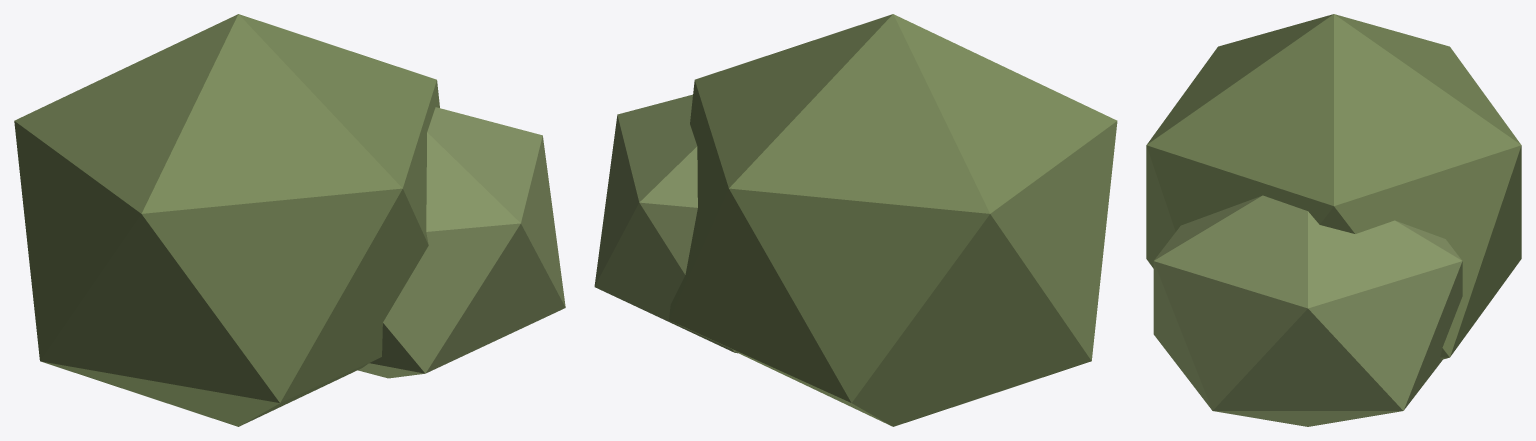
File: bush.glb
The picture shows the model from 3 angles, left to right: view 1: azimuth 30°, elevation 25°; view 2: azimuth 150°, elevation 25°; view 3: azimuth 270°, elevation 25°; orthographic projection. The views are drawn at different scales.
Visible parts, largest first — view 1: bush; view 2: bush; view 3: bush.
Part boxes in pixels (x1,y1,x2,y2): bush: (14, 14, 565, 426); bush: (594, 14, 1117, 426); bush: (1146, 14, 1521, 426).
Bounding box in the file's own units: 3.96 × 3.2 × 2.89.
